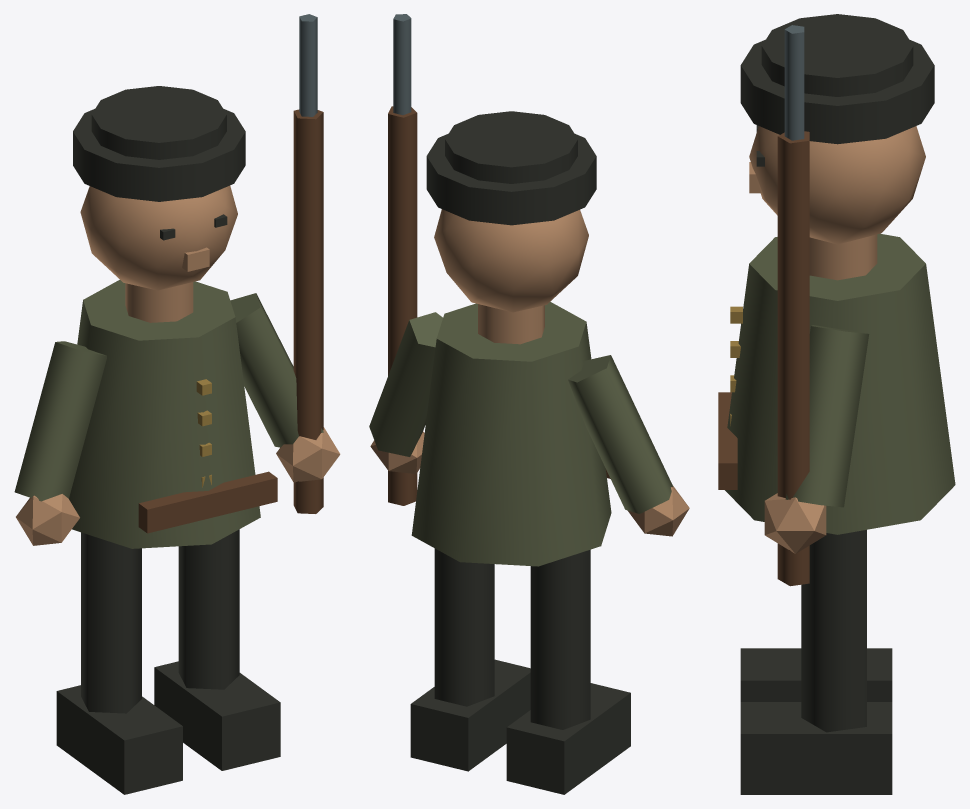
File: custom-person-infantry.glb
3 renders of one model, left to right at view 1: azimuth 30°, elevation 25°; view 2: azimuth 150°, elevation 25°; view 3: azimuth 270°, elevation 25°, orthographic. The views are drawn at different scales.
Parts seen in each view (by area): view 1: custom-person-infantry; view 2: custom-person-infantry; view 3: custom-person-infantry.
Part boxes in pixels (x1,y1,x2,y2): custom-person-infantry: (14,14,340,794); custom-person-infantry: (369,14,689,794); custom-person-infantry: (718,14,955,794).
Bounding box in the file's own units: 1 × 2.2 × 0.5949.
